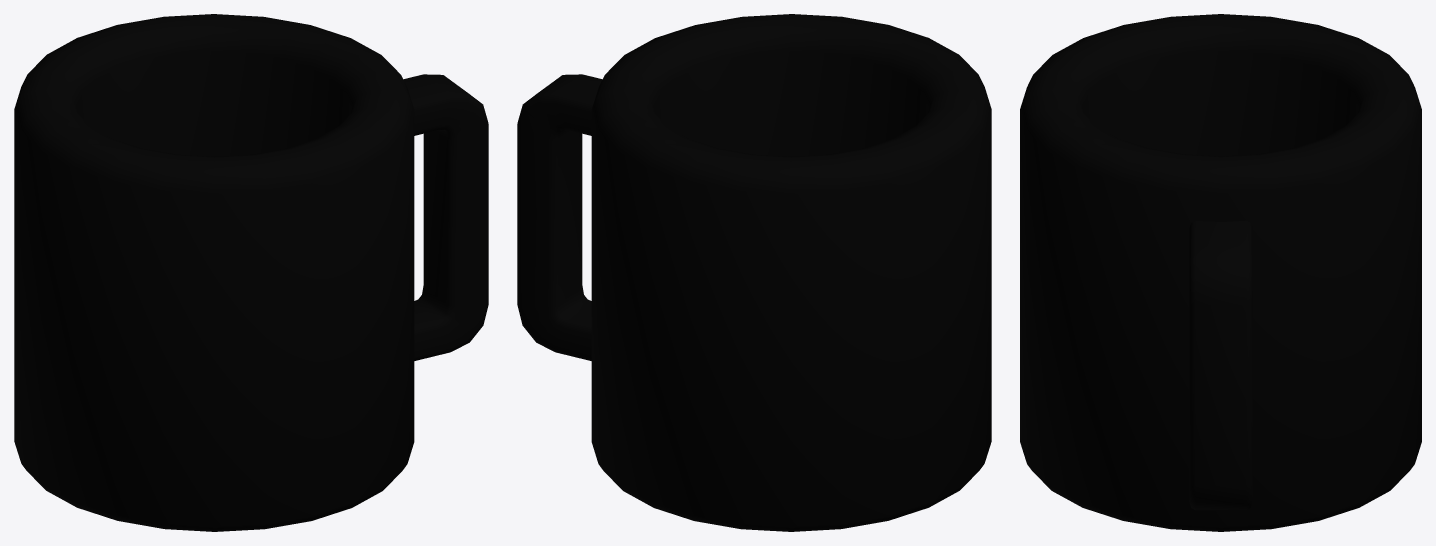
The model's file is Mug1_black.fbx.
3 renders of one model, left to right at view 1: azimuth 30°, elevation 25°; view 2: azimuth 150°, elevation 25°; view 3: azimuth 270°, elevation 25°, orthographic.
Visible parts, largest first — view 1: Mug1_Black; view 2: Mug1_Black; view 3: Mug1_Black.
Boxes of the visible parts, x1,y1,x2,y2 form: Mug1_Black: [14, 14, 488, 531]; Mug1_Black: [517, 14, 991, 531]; Mug1_Black: [1020, 14, 1421, 531].
Size of the model in its own units: 16.75 by 13.4 by 13.4.
